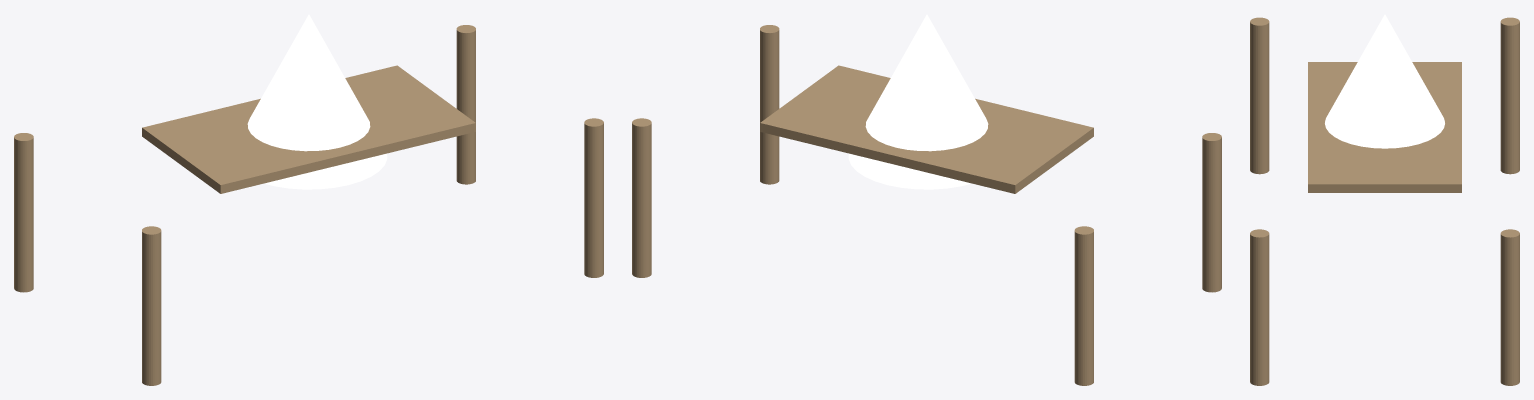
File: crystal_shimmer.glb
3 views of the same model, side by side, from view 1: azimuth 30°, elevation 25°; view 2: azimuth 150°, elevation 25°; view 3: azimuth 270°, elevation 25° (orthographic).
Parts seen in each view (by area): view 1: bench_top, crystal_shimmer, bench_leg_1.3_-0.65, bench_leg_-1.3_0.65, bench_leg_-1.3_-0.65, bench_leg_1.3_0.65; view 2: bench_top, crystal_shimmer, bench_leg_1.3_0.65, bench_leg_-1.3_0.65, bench_leg_-1.3_-0.65, bench_leg_1.3_-0.65; view 3: bench_top, crystal_shimmer, bench_leg_-1.3_0.65, bench_leg_-1.3_-0.65, bench_leg_1.3_0.65, bench_leg_1.3_-0.65.
Part boxes in pixels (<box>): bench_top: <box>142,65,475,193</box>; crystal_shimmer: <box>247,14,387,189</box>; bench_leg_1.3_-0.65: <box>584,118,603,277</box>; bench_leg_-1.3_0.65: <box>14,133,33,292</box>; bench_leg_-1.3_-0.65: <box>142,226,161,385</box>; bench_leg_1.3_0.65: <box>456,25,475,184</box>; bench_top: <box>760,65,1093,193</box>; crystal_shimmer: <box>848,14,988,189</box>; bench_leg_1.3_0.65: <box>632,118,651,277</box>; bench_leg_-1.3_0.65: <box>1074,226,1093,385</box>; bench_leg_-1.3_-0.65: <box>1202,133,1221,292</box>; bench_leg_1.3_-0.65: <box>760,25,779,184</box>; bench_top: <box>1308,62,1461,192</box>; crystal_shimmer: <box>1325,14,1444,148</box>; bench_leg_-1.3_0.65: <box>1500,17,1519,174</box>; bench_leg_-1.3_-0.65: <box>1250,17,1269,174</box>; bench_leg_1.3_0.65: <box>1500,229,1519,385</box>; bench_leg_1.3_-0.65: <box>1250,229,1269,385</box>.
Bounding box in the file's own units: 2.7 × 1.5 × 1.4.
